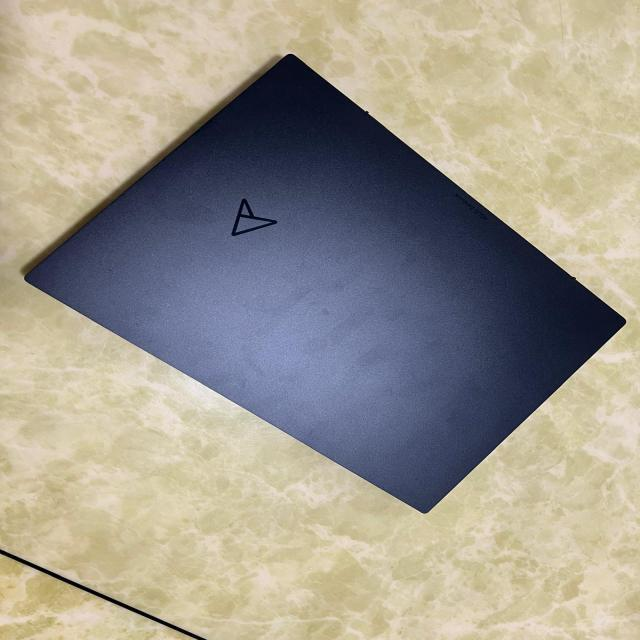laptop: (22, 51, 626, 514)
